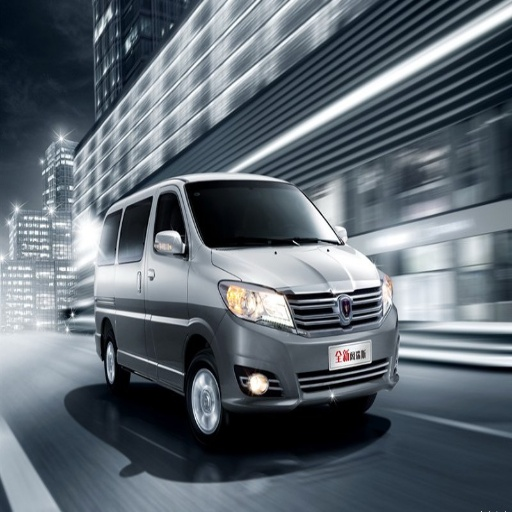front_bumper: (214, 286, 398, 413)
front_right_door: (143, 186, 190, 375)
front_right_light: (219, 281, 293, 327)
